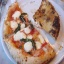basil: (20, 37, 38, 51), (18, 15, 26, 24)
pizza: (2, 3, 57, 62)
